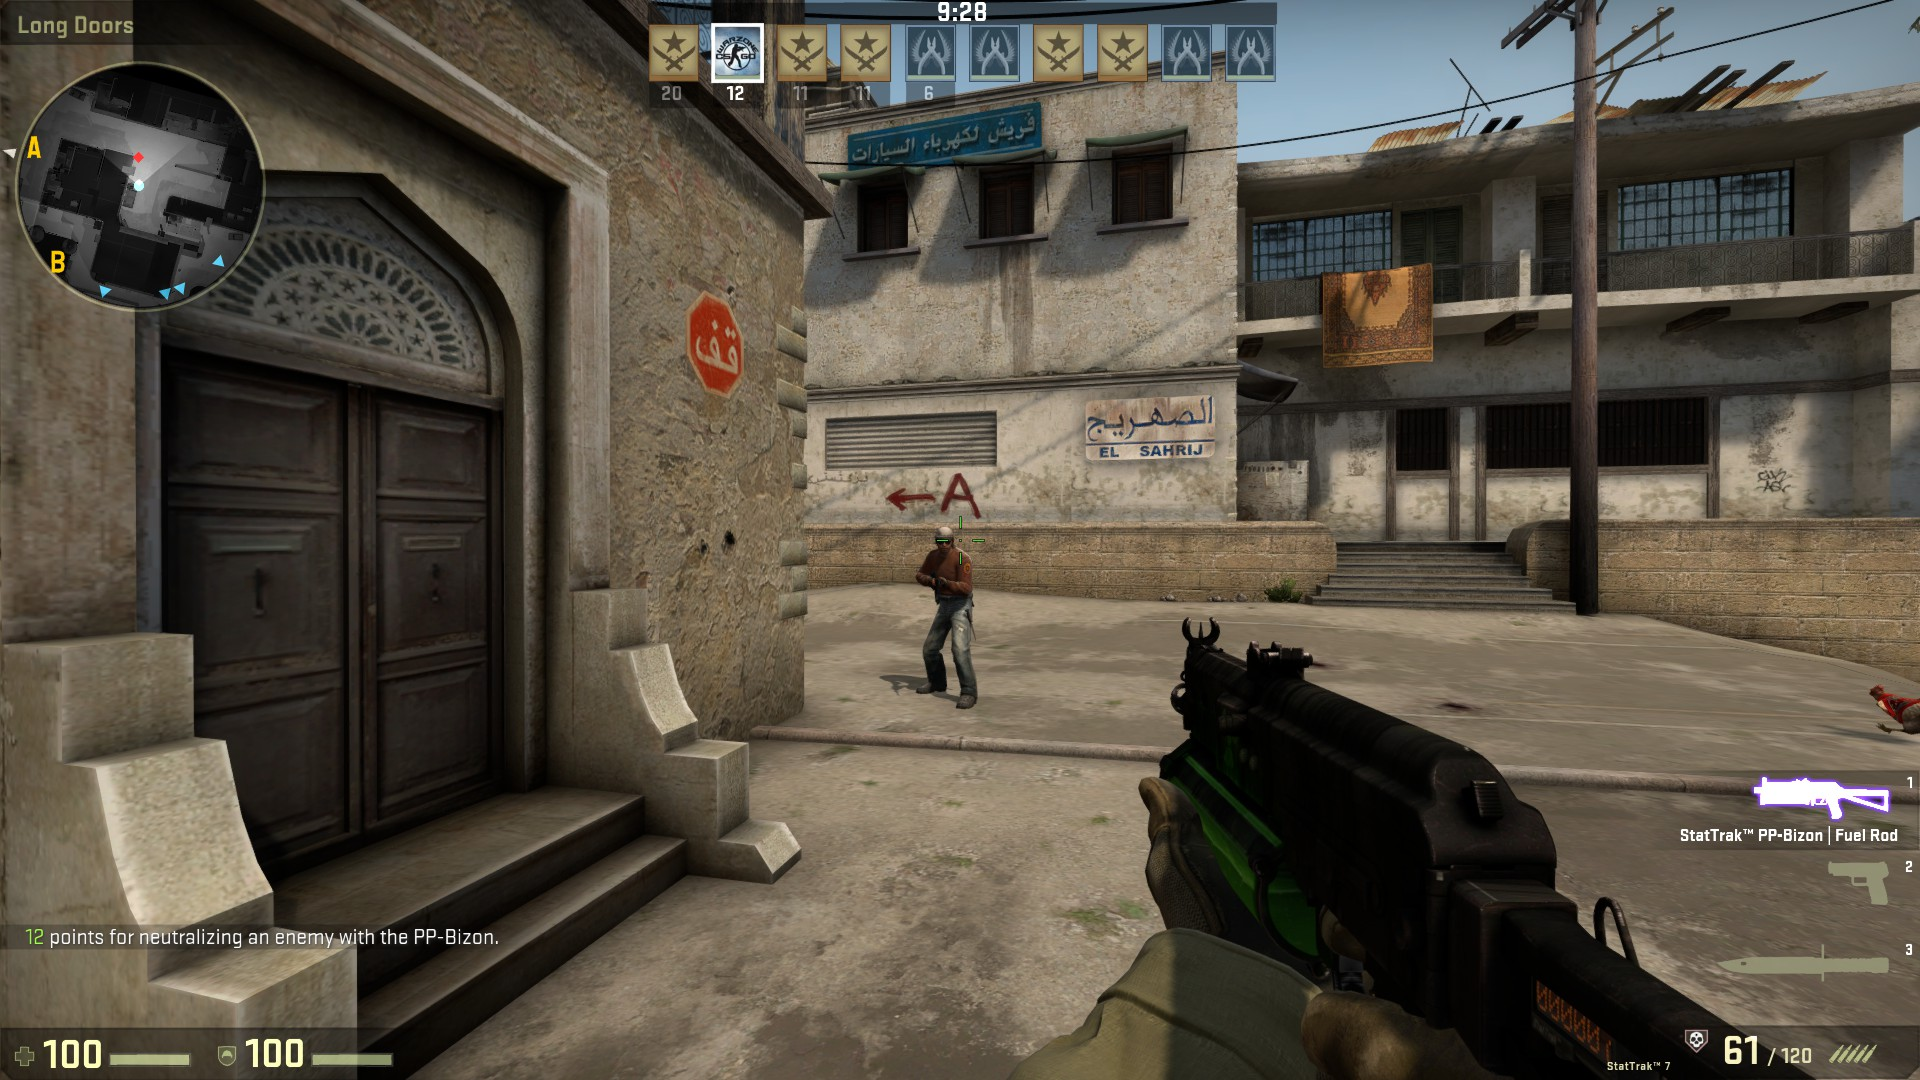t: (913, 525, 984, 707)
th: (928, 526, 960, 556)
